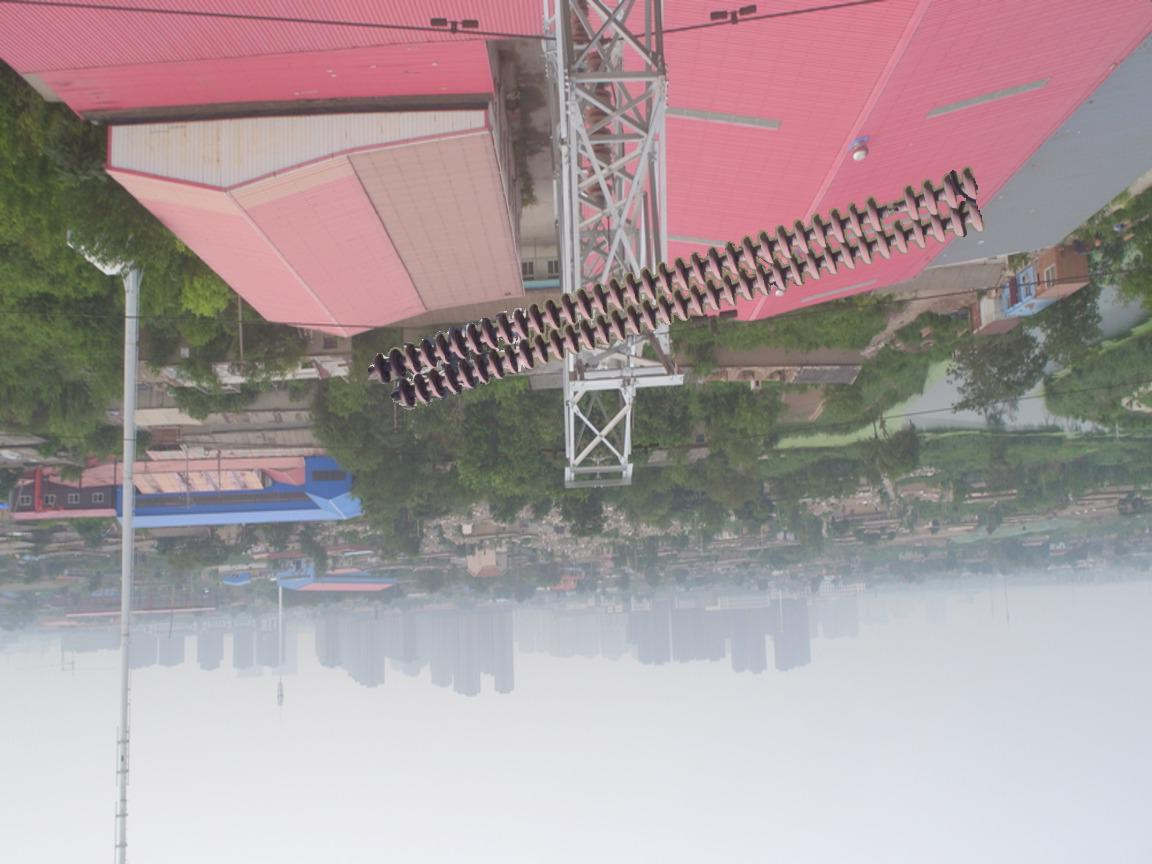insulator: (365, 160, 987, 416), (580, 45, 617, 203)
insulator_stringdrop: (862, 183, 922, 234)
